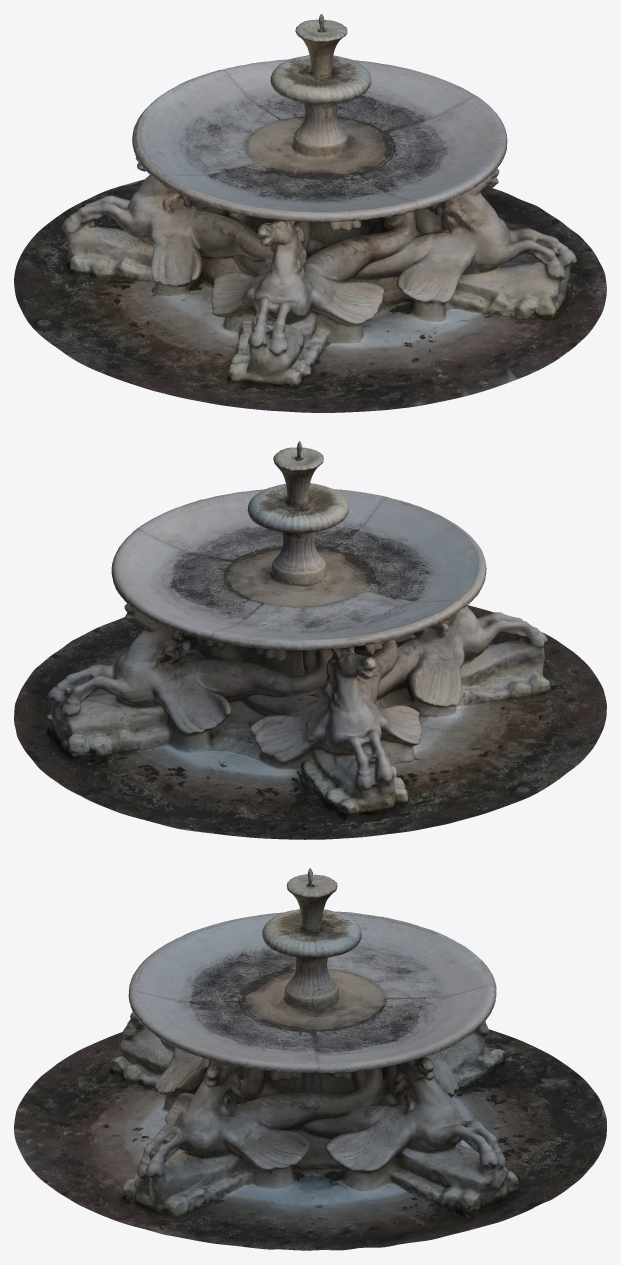
File: preview.glb
3 views of the same model, one above another, from view 1: azimuth 30°, elevation 25°; view 2: azimuth 150°, elevation 25°; view 3: azimuth 270°, elevation 25° (orthographic).
Visible parts, largest first — view 1: Object_2; view 2: Object_2; view 3: Object_2.
Boxes of the visible parts, x1,y1,x2,y2 form: Object_2: [14, 14, 606, 412]; Object_2: [14, 441, 606, 839]; Object_2: [14, 868, 606, 1250].
Size of the model in its own units: 7.19 by 3.7 by 7.39.
1 material, 1 textured.
